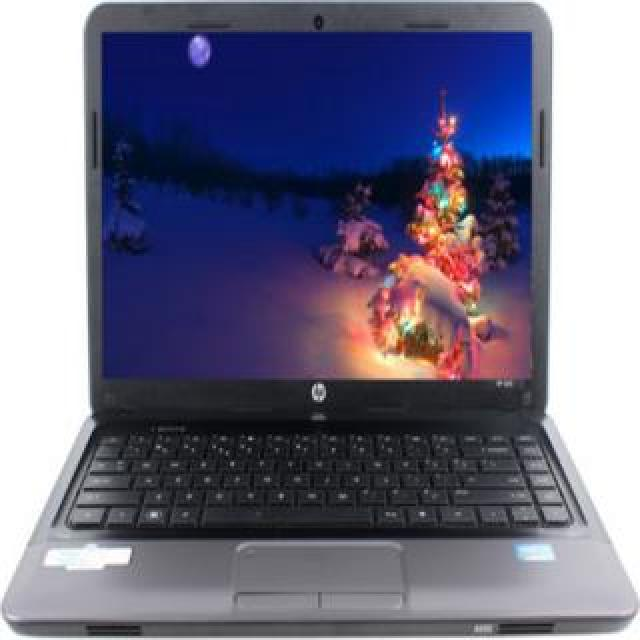laptop_computer: (55, 4, 633, 634)
